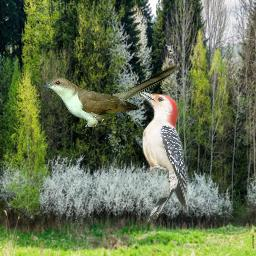Cuckoo: (40, 64, 178, 127)
Woodpecker: (133, 88, 188, 225)
